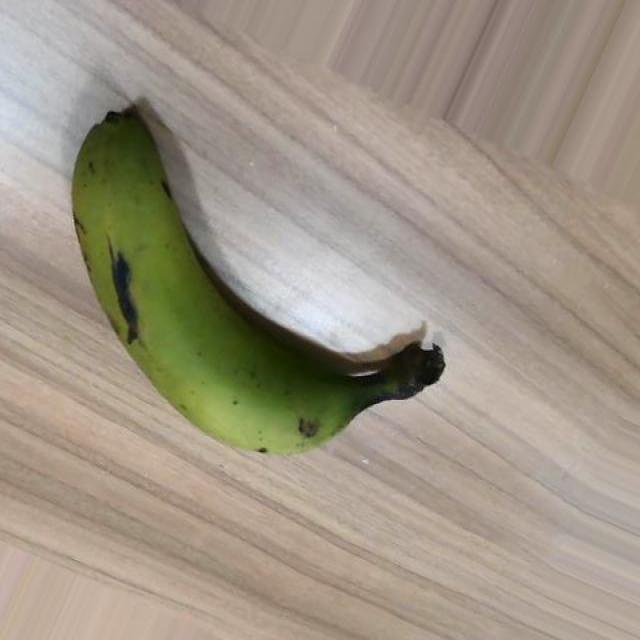Unripe: (70, 106, 445, 456)
